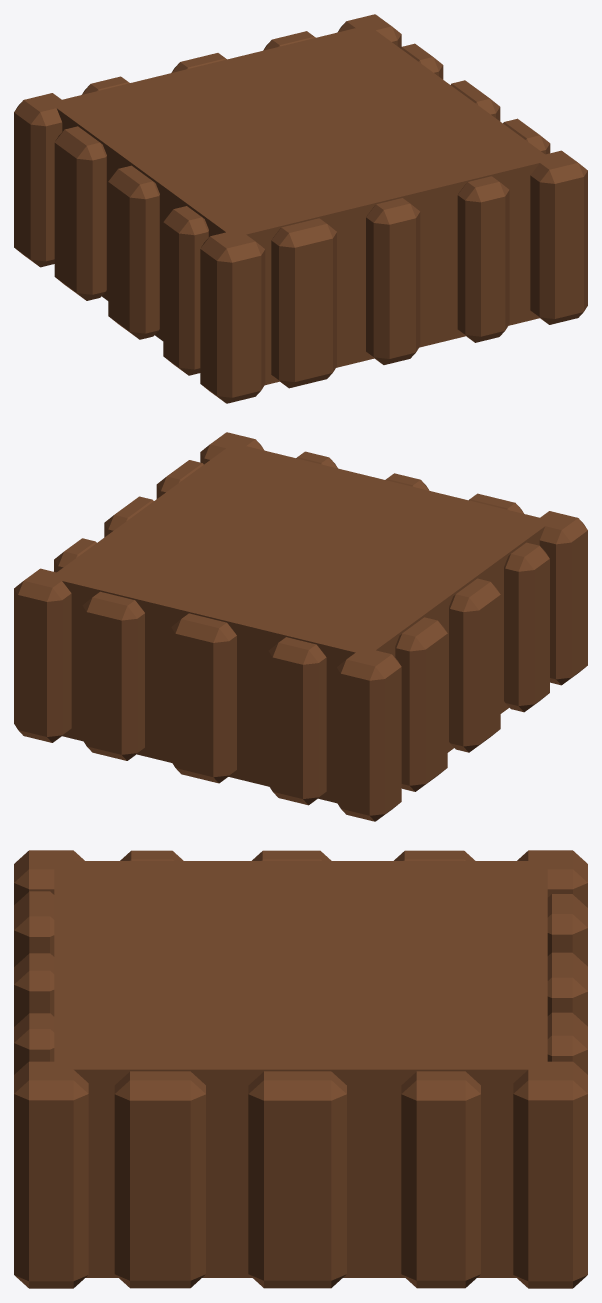
File: Stump.fbx
3 views of the same model, one above another, from view 1: azimuth 30°, elevation 25°; view 2: azimuth 150°, elevation 25°; view 3: azimuth 270°, elevation 25° (orthographic). The views are drawn at different scales.
Visible parts, largest first — view 1: Stump; view 2: Stump; view 3: Stump.
Part boxes in pixels (x1,y1,x2,y2): Stump: [14, 14, 587, 403]; Stump: [14, 432, 587, 821]; Stump: [14, 850, 587, 1288].
Bounding box in the file's own units: 3 × 1.2 × 3.
